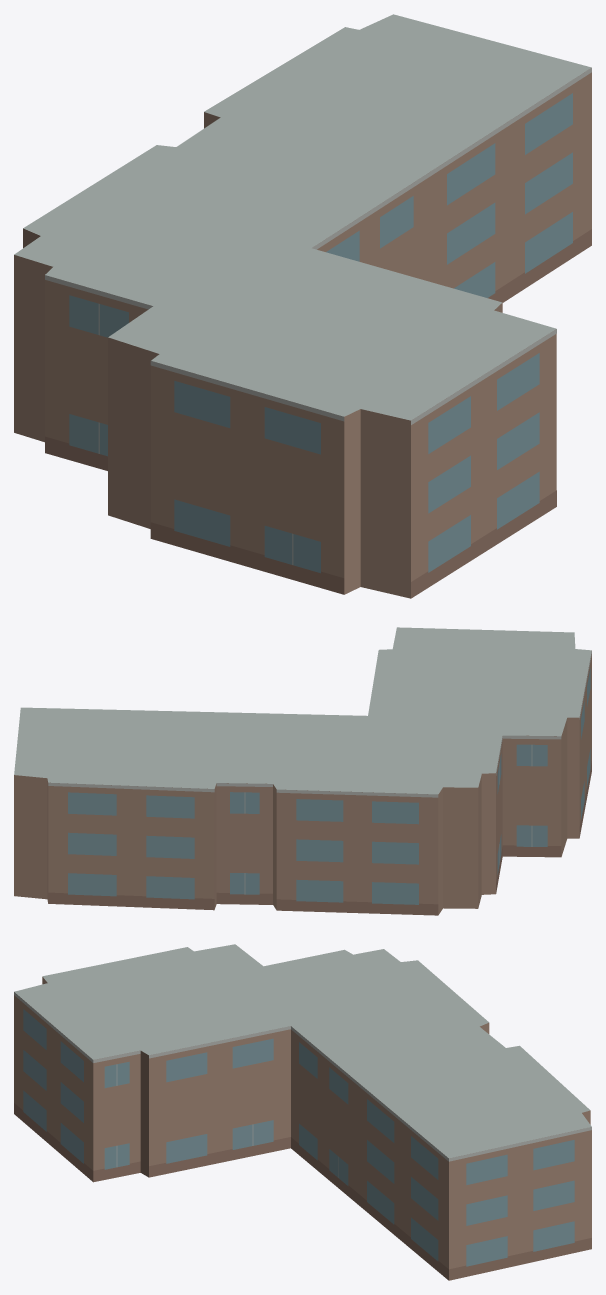
File: survey-upis-32994645.glb
The picture shows the model from 3 angles, top to bottom: view 1: azimuth 30°, elevation 25°; view 2: azimuth 150°, elevation 25°; view 3: azimuth 270°, elevation 25°; orthographic projection. The views are drawn at different scales.
Parts seen in each view (by area): view 1: survey-upis-32994645.tmp; view 2: survey-upis-32994645.tmp; view 3: survey-upis-32994645.tmp.
Boxes of the visible parts, left/top/right/bottom form: survey-upis-32994645.tmp: left=14, top=14, right=591, bottom=598; survey-upis-32994645.tmp: left=14, top=627, right=591, bottom=915; survey-upis-32994645.tmp: left=14, top=944, right=591, bottom=1280.
Size of the model in its own units: 34.4 by 9.15 by 39.2.
